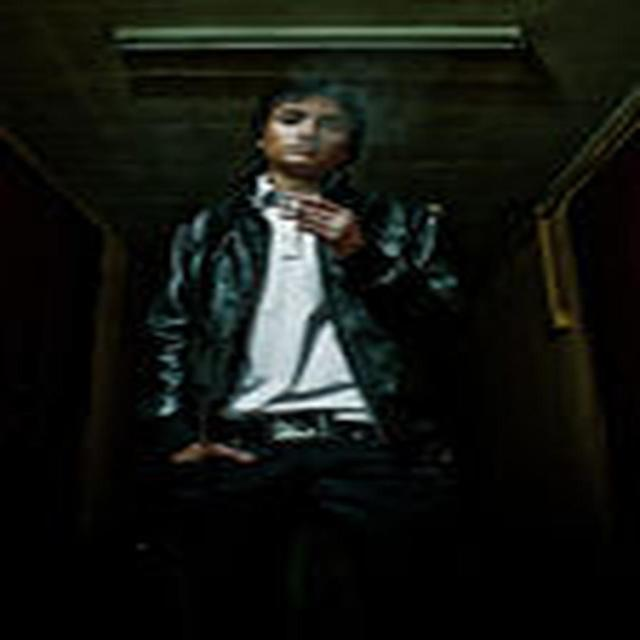smoking: (242, 80, 382, 253)
